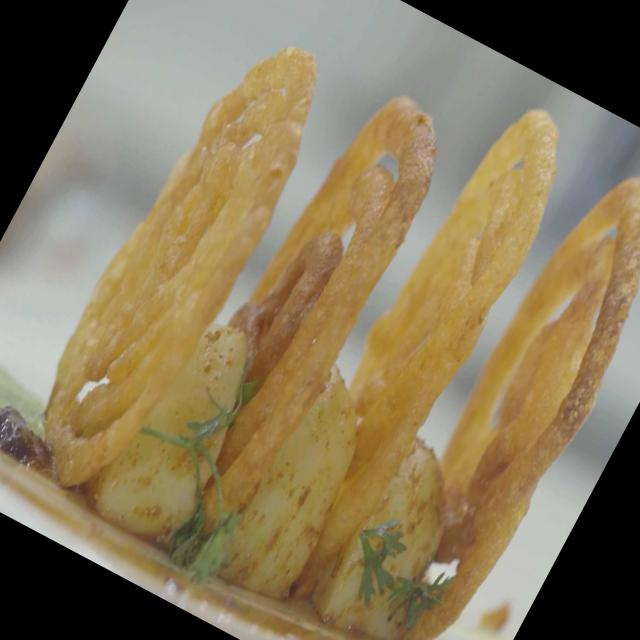jalebi: (5, 14, 348, 512), (292, 101, 587, 556), (178, 48, 481, 490), (385, 165, 640, 612)
